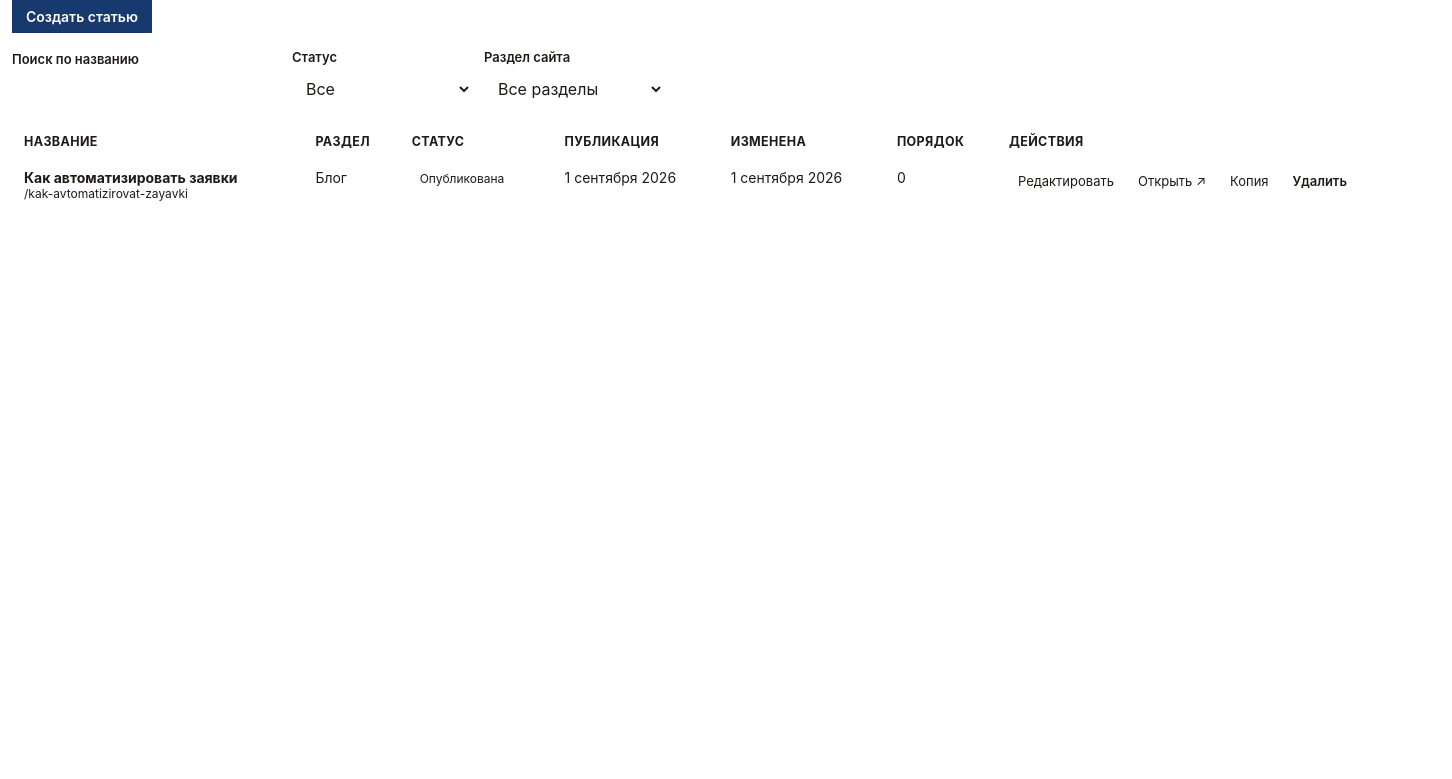
Scenario: связи приходят из серверного рендера › статья без связей показывает пустой список, а не отсутствие блока
Click the button "Редактировать".
click(1066, 181)  # box [1009,169,1123,193]
(page scrolled)
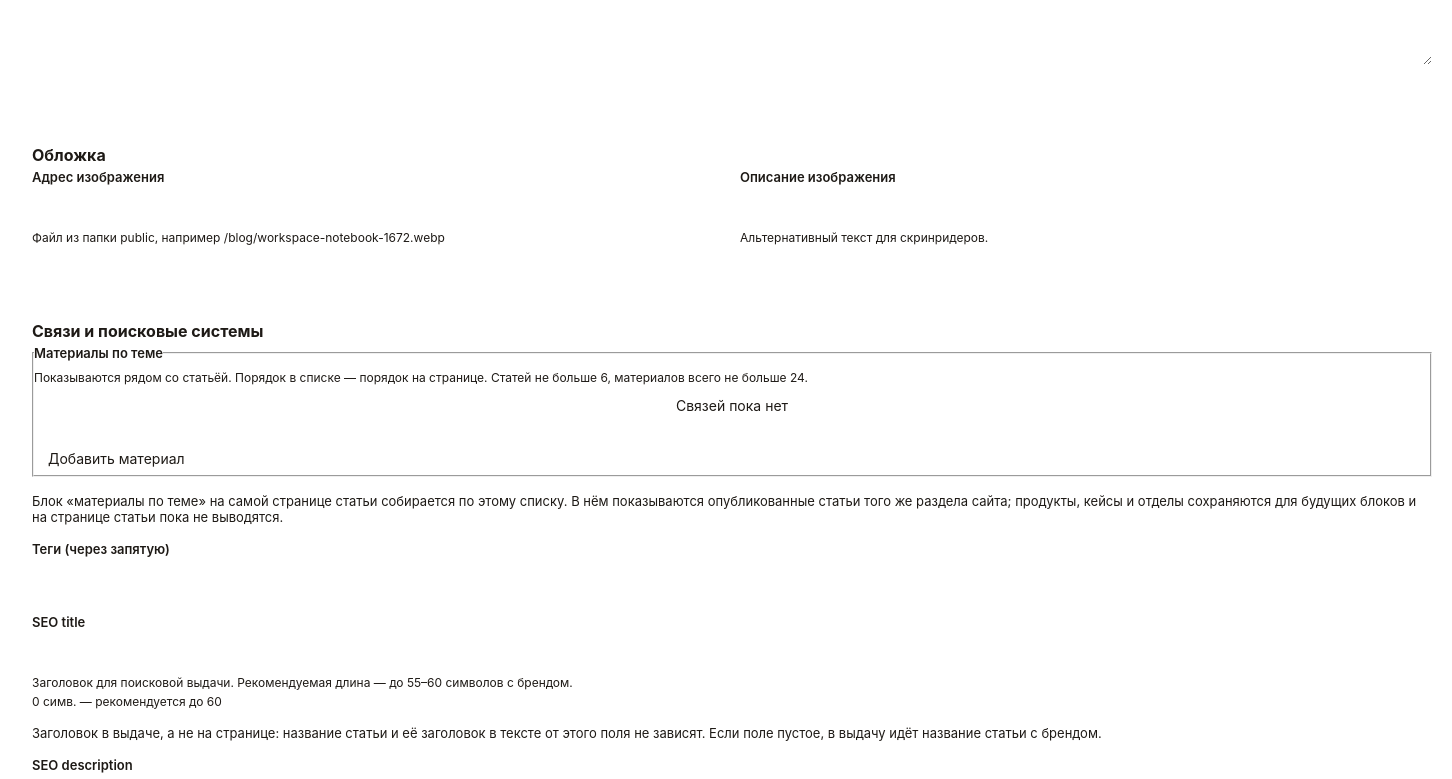
Expected: the text "Связей пока нет" is shown, [676,397,788,414]
